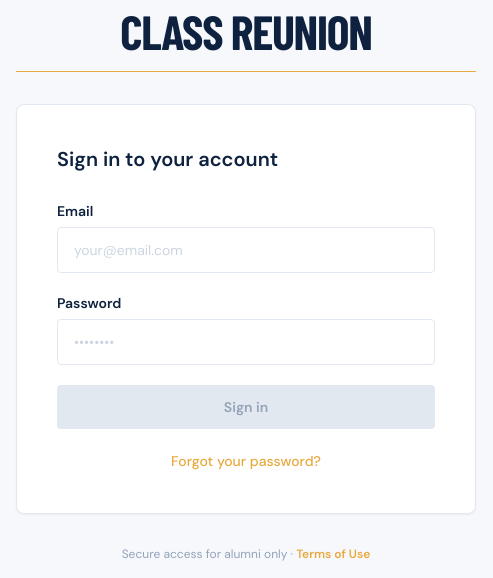
Test case: Login Component › should enable submit button when form is filled
Type "test@example.com" into the field with placeholder "your@email.com".
click(246, 250); type("test@example.com")  # box 57,226 -> 435,272
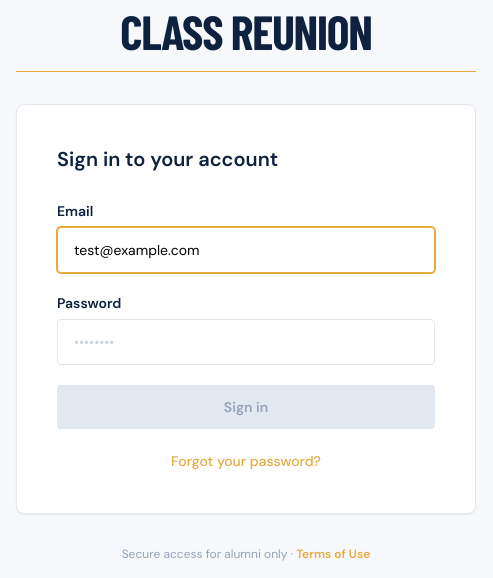
Type "password123" into the password field with placeholder "••••••••".
click(246, 342); type("password123")  # box 57,318 -> 435,364
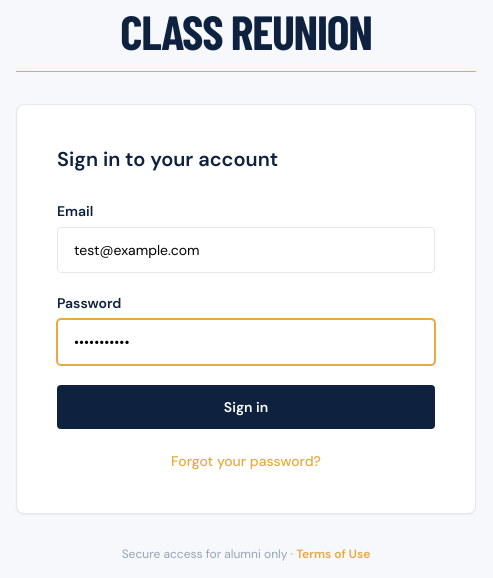
Expected: the button "Sign in" is enabled, 57,384 -> 435,428
